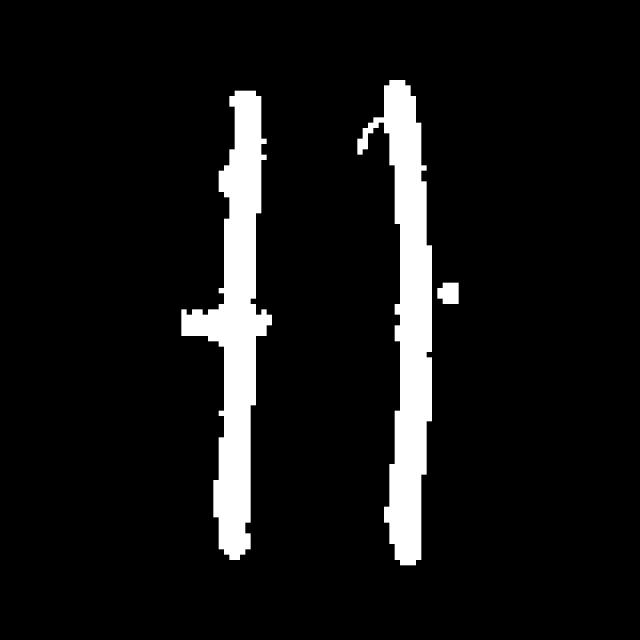capacitor: (208, 64, 440, 592)
